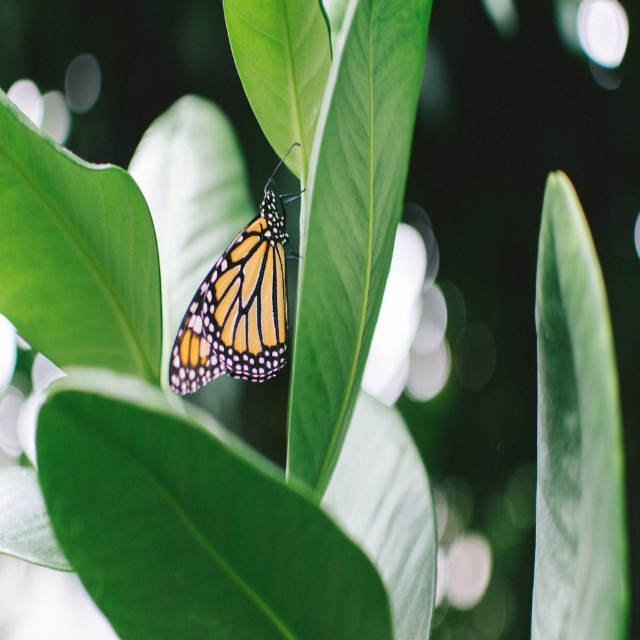Butterfly: (164, 169, 301, 398)
